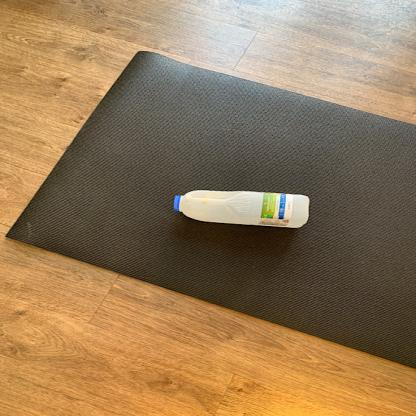trash: (172, 190, 312, 230)
